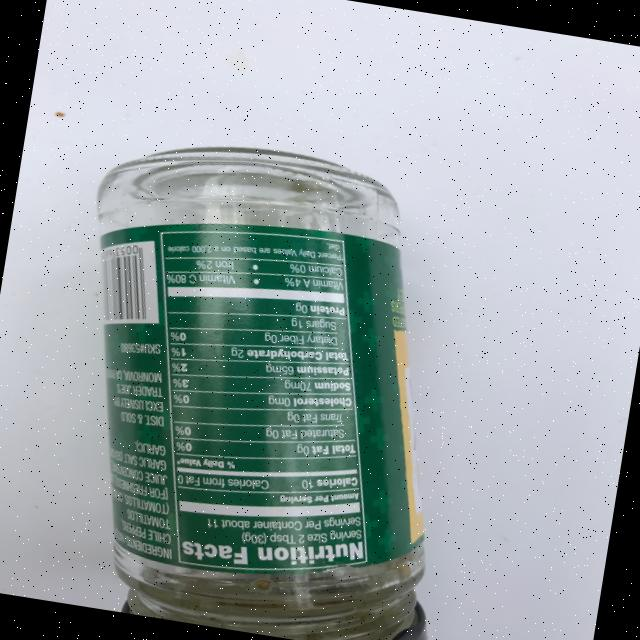glass: (33, 123, 495, 640)
